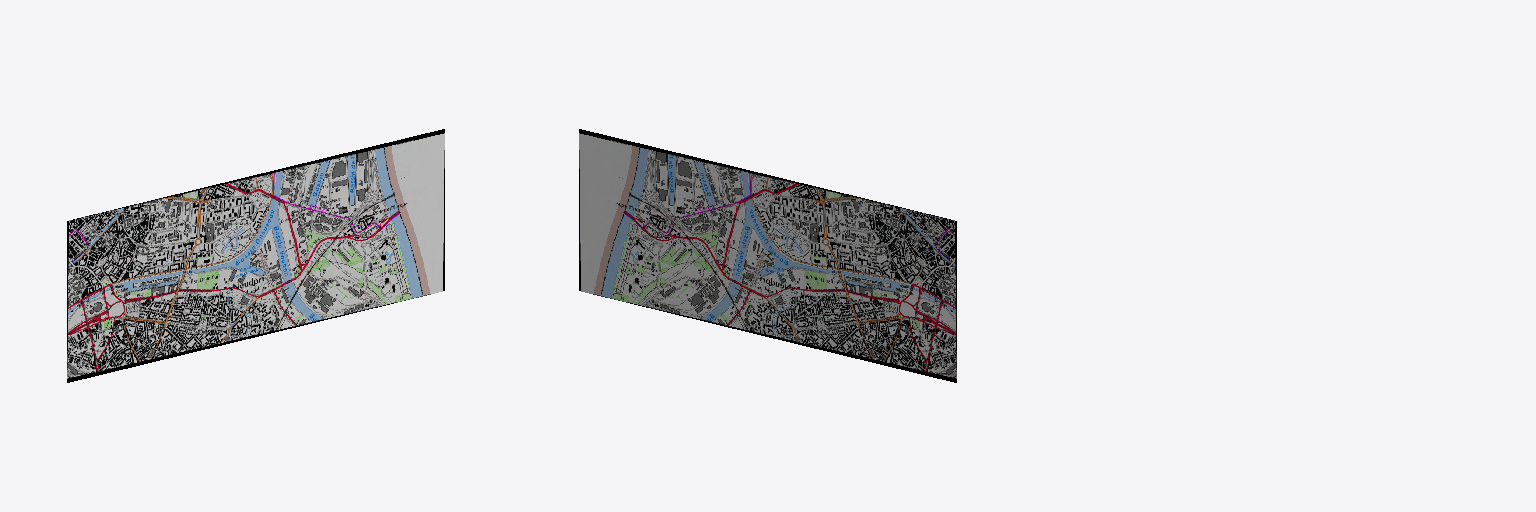
3 views of the same model, side by side, from view 1: azimuth 30°, elevation 25°; view 2: azimuth 150°, elevation 25°; view 3: azimuth 270°, elevation 25° (orthographic).
Visible parts, largest first — view 1: 1; view 2: 1; view 3: none.
Part boxes in pixels (x1,y1,x2,y2): 1: (67,129,444,382); 1: (579,129,956,382).
Size of the model in its own units: 4554 by 1872 by 0.
1 materials, 1 textured.